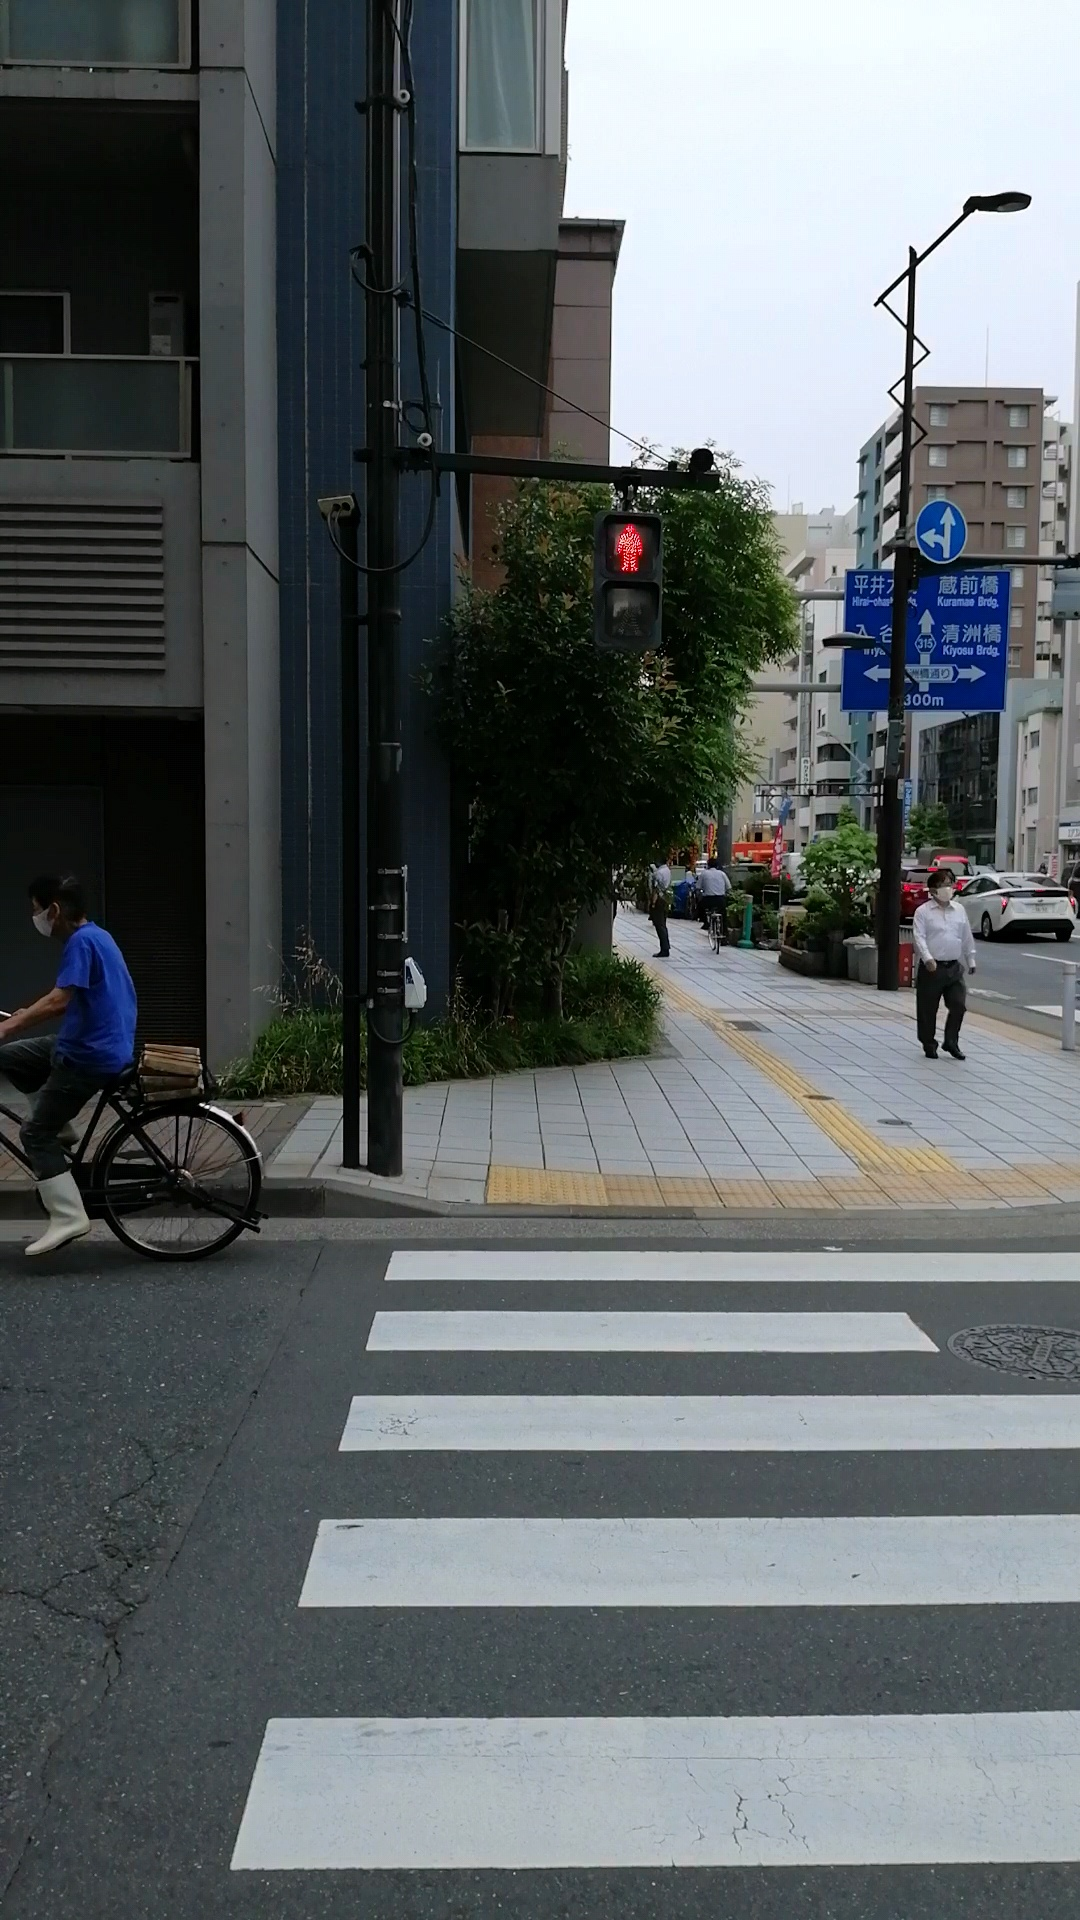red: (595, 514, 665, 649)
